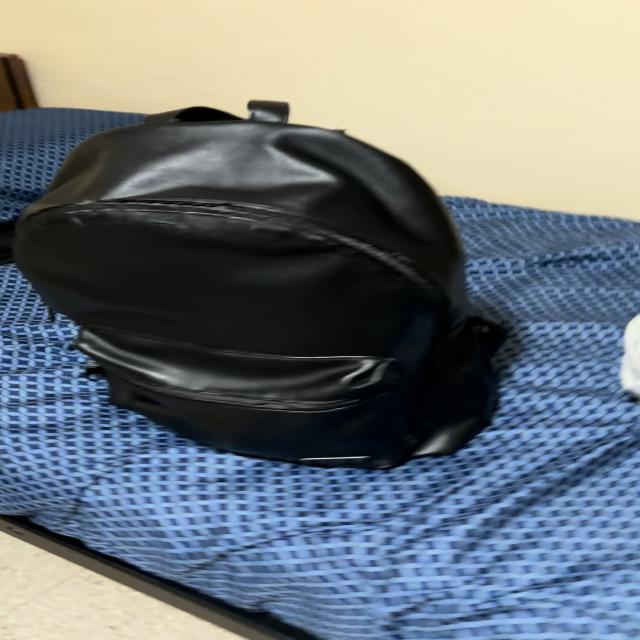backpack: (13, 101, 500, 468)
